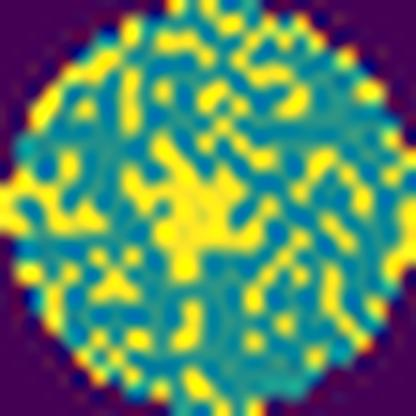Center: (122, 134, 280, 288)
